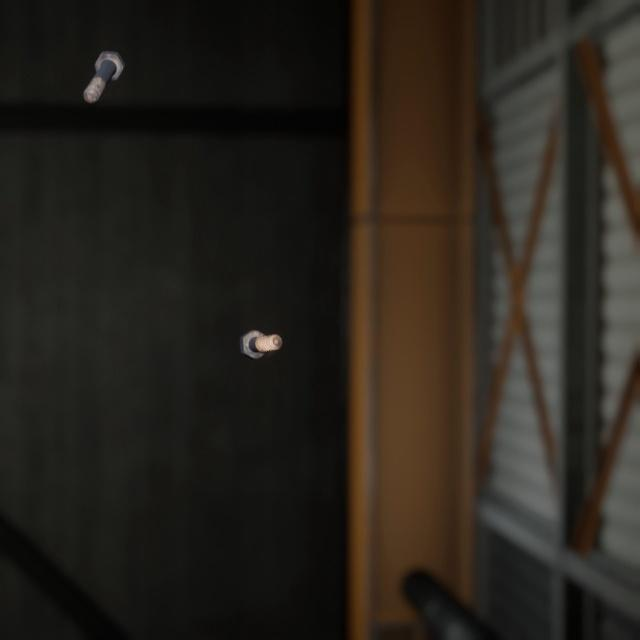bolt: (78, 36, 129, 97), (235, 307, 286, 345)
